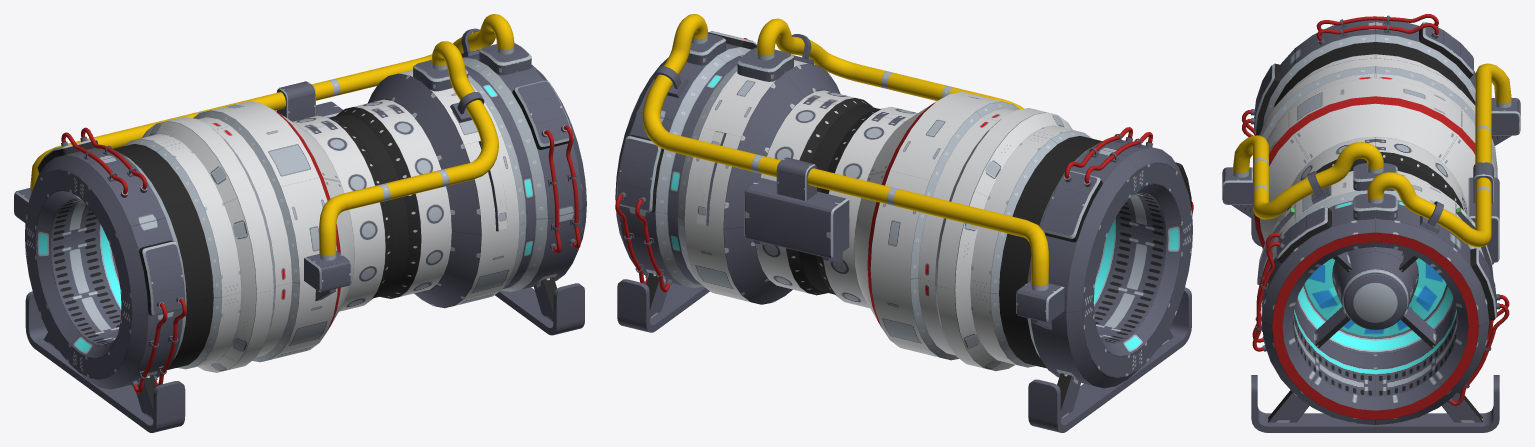
The model's file is Reactor_ColdFusion_01.FBX.
The picture shows the model from 3 angles, left to right: view 1: azimuth 30°, elevation 25°; view 2: azimuth 150°, elevation 25°; view 3: azimuth 270°, elevation 25°; orthographic projection. The views are drawn at different scales.
Parts seen in each view (by area): view 1: Reactor_ColdFusion_01, Support; view 2: Reactor_ColdFusion_01, Support; view 3: Reactor_ColdFusion_01, Support.
Boxes of the visible parts, <box> form: Reactor_ColdFusion_01: <box>14,14,586,393</box>; Support: <box>25,277,584,432</box>; Reactor_ColdFusion_01: <box>615,14,1193,388</box>; Support: <box>617,279,1191,432</box>; Reactor_ColdFusion_01: <box>1222,14,1520,424</box>; Support: <box>1251,218,1499,432</box>.
Size of the model in its own units: 12 by 6.76 by 7.2.
4 materials, 4 textured.
